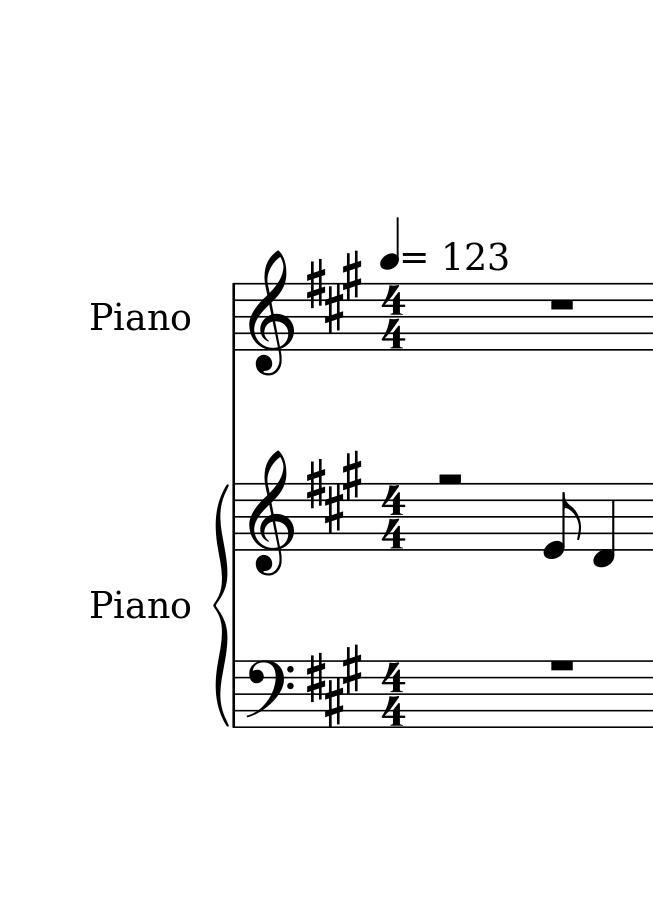1: (442, 240, 459, 272)
2: (465, 242, 487, 272)
3: (488, 241, 509, 272)
4: (379, 692, 406, 728), (381, 482, 407, 517), (381, 516, 407, 551), (381, 659, 407, 694), (381, 316, 407, 349), (380, 282, 405, 316)
4_-1: (590, 481, 617, 570)
8_0: (542, 481, 580, 561)
A_S: (303, 251, 362, 336), (305, 450, 364, 535), (306, 644, 363, 727)
Brace: (213, 477, 230, 725)
Fclef: (245, 658, 296, 731)
Gclef: (246, 249, 295, 377), (248, 449, 295, 577)
Pno: (91, 587, 188, 620), (89, 301, 187, 333)
Rests1: (546, 294, 578, 314), (545, 655, 578, 674)
Rests2: (434, 469, 465, 489)
Single_barline: (227, 283, 241, 350), (229, 484, 242, 551), (229, 661, 242, 726)
Speed4: (380, 215, 428, 271)
TimeSig: (379, 482, 408, 552), (379, 281, 408, 350), (379, 660, 408, 729)
